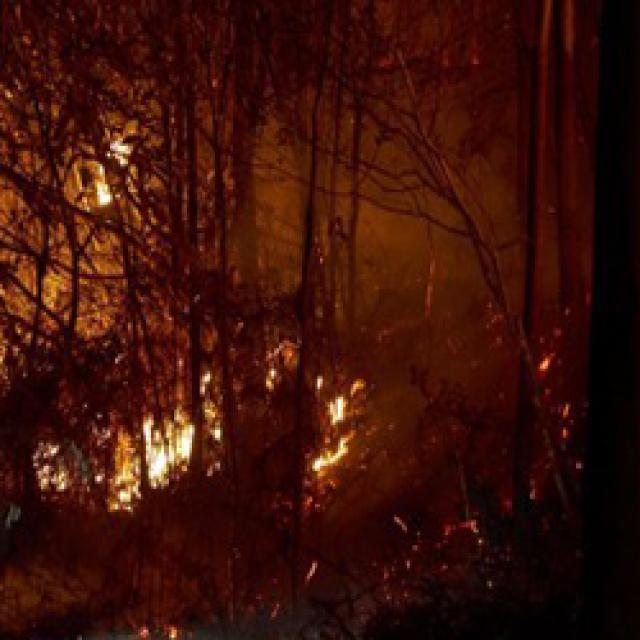Fire: (0, 92, 147, 372), (8, 350, 242, 510), (50, 109, 171, 254), (270, 347, 370, 511), (522, 332, 619, 486), (379, 477, 501, 568), (99, 600, 212, 640)
Smoke: (195, 2, 598, 294)
